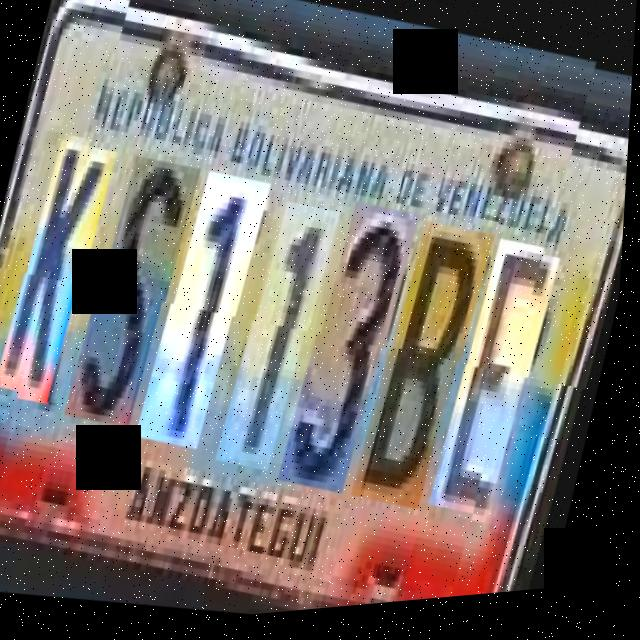1: (146, 165, 277, 453), (227, 195, 348, 474)
3: (290, 193, 429, 497)
B: (364, 215, 503, 513)
E: (442, 231, 573, 519)
K: (2, 135, 124, 410)
S: (74, 149, 207, 433)
